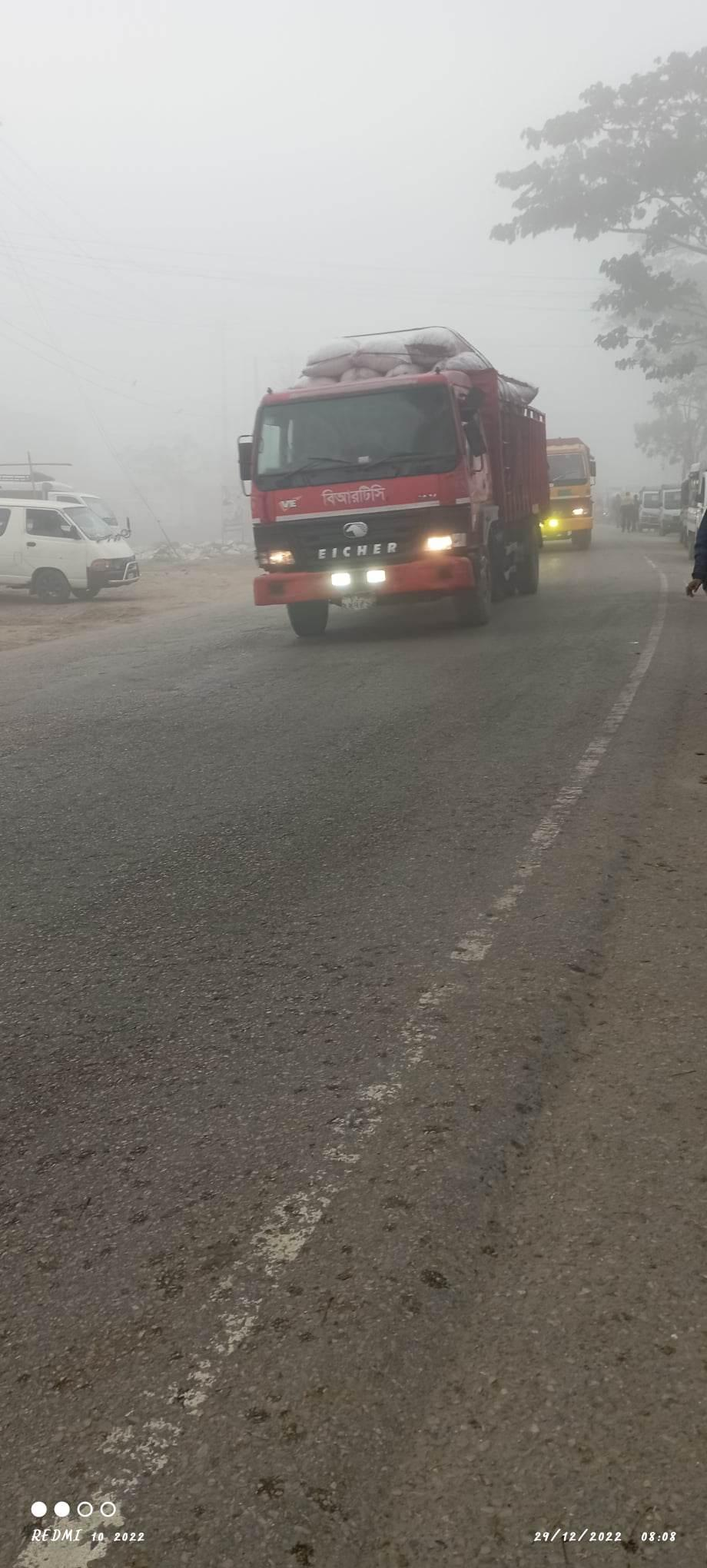Car: (5, 467, 142, 626)
Truck: (217, 291, 554, 655), (544, 420, 602, 580)
